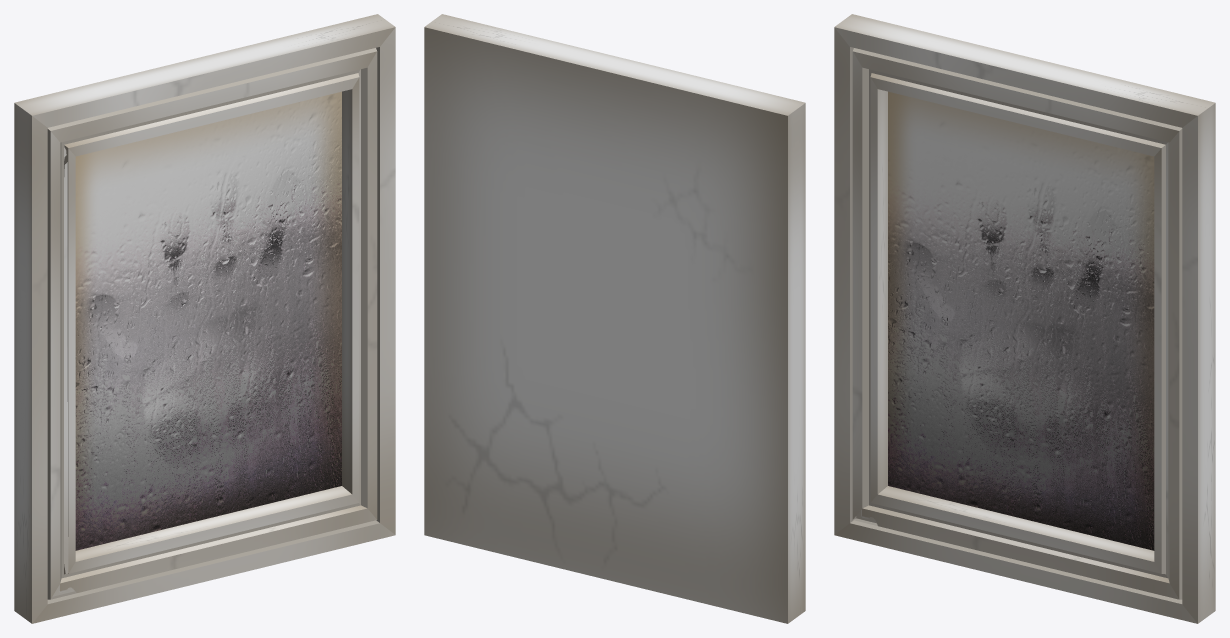
Rendered from Mirror.fbx.
3 renders of one model, left to right at view 1: azimuth 30°, elevation 25°; view 2: azimuth 150°, elevation 25°; view 3: azimuth 330°, elevation 25°, orthographic.
Visible parts, largest first — view 1: Cube; view 2: Cube; view 3: Cube.
Part boxes in pixels (bbox=[...]): Cube: bbox=[14, 14, 395, 623]; Cube: bbox=[424, 14, 805, 623]; Cube: bbox=[834, 14, 1215, 623].
Size of the model in its own units: 374 by 500 by 31.96.
